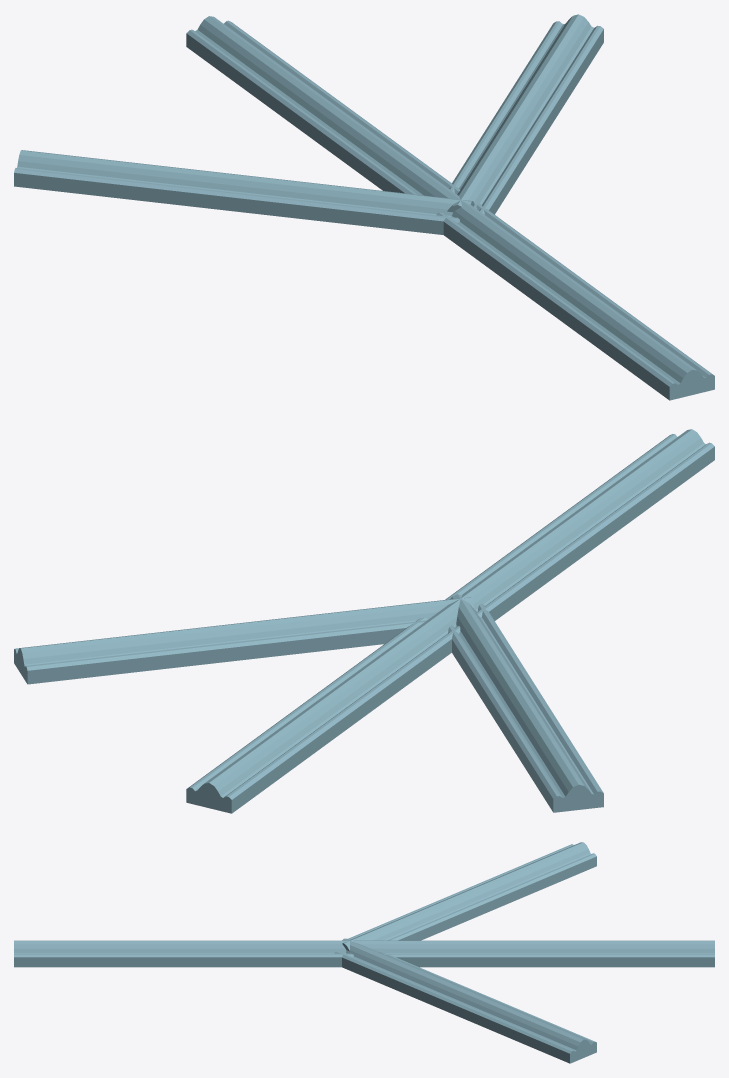
Rendered from J02_exact_local_junction.glb.
3 renders of one model, top to bottom at view 1: azimuth 30°, elevation 25°; view 2: azimuth 150°, elevation 25°; view 3: azimuth 270°, elevation 25°, orthographic. The views are drawn at different scales.
Visible parts, largest first — view 1: EXACT main; view 2: EXACT main; view 3: EXACT main.
Part boxes in pixels (x1,y1,x2,y2): EXACT main: (14,14,714,400); EXACT main: (14,429,714,813); EXACT main: (14,842,714,1063).
Size of the model in its own units: 33.84 by 1.39 by 48.
